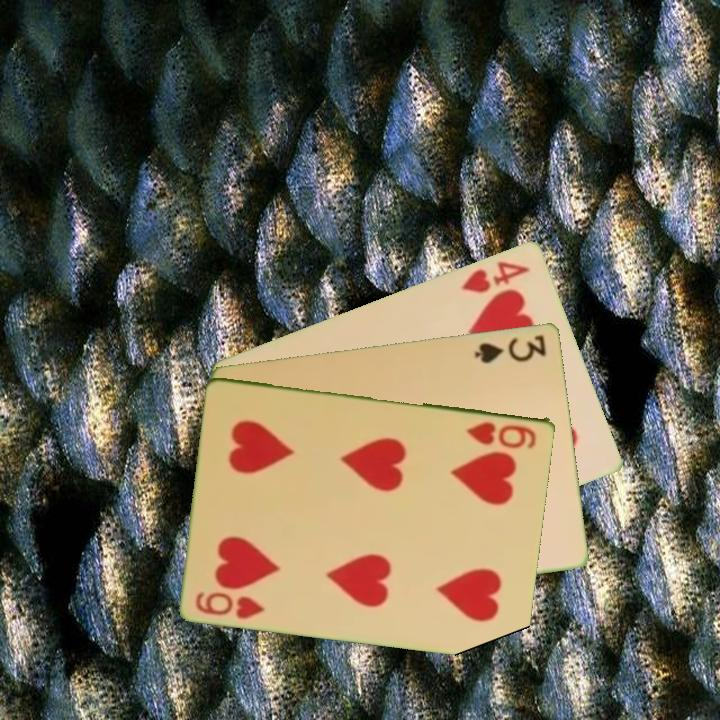3s: (471, 330, 550, 366)
4h: (458, 256, 532, 296)
6h: (192, 588, 268, 622), (463, 418, 540, 451)
